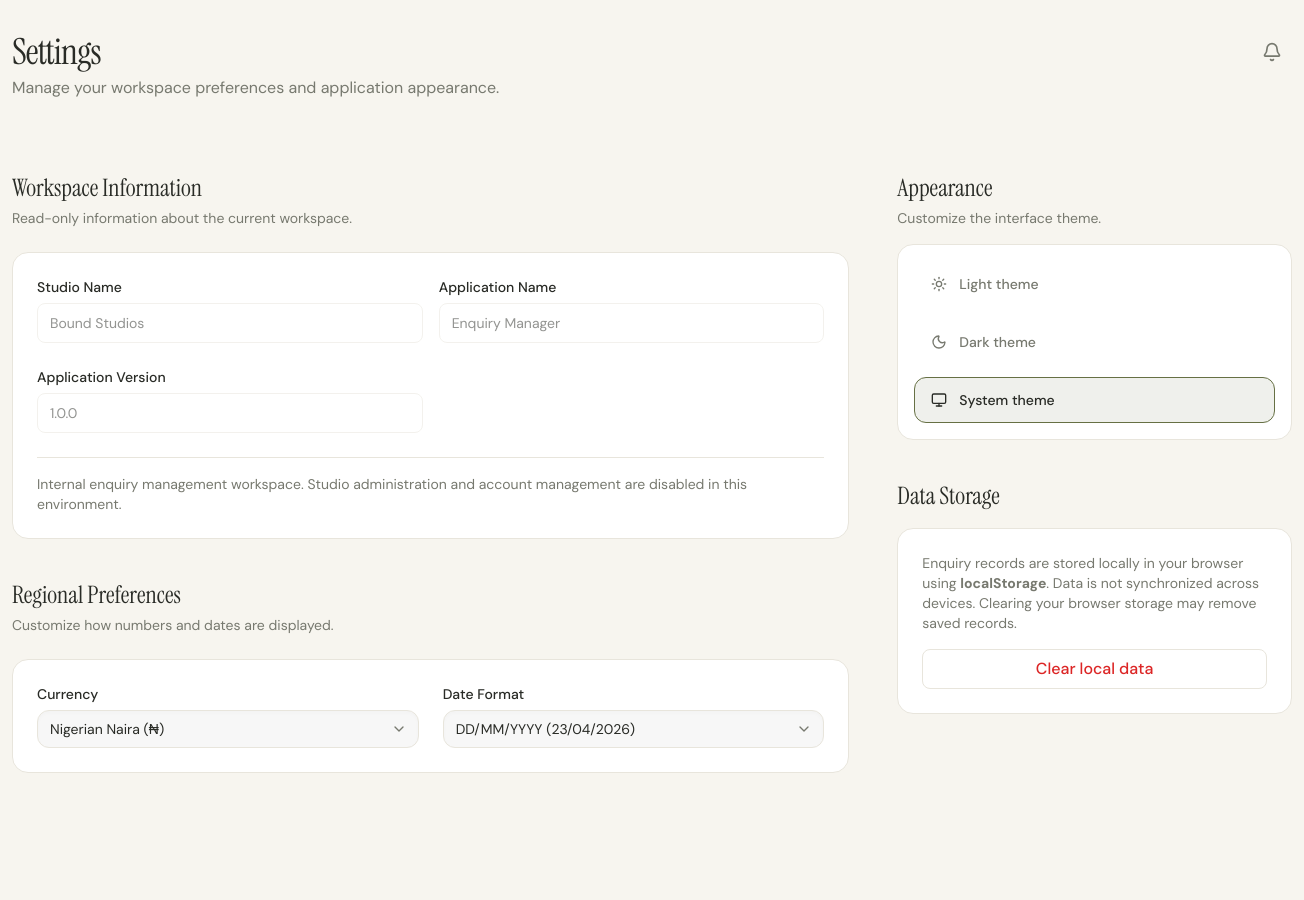
Scenario: Settings page › changes currency and saves the preference
Note: Simulate user interaction with the currency dropdown
Select "US Dollar ($)" in the dropdown below "Currency" at [228, 729], box [37,710,419,748]
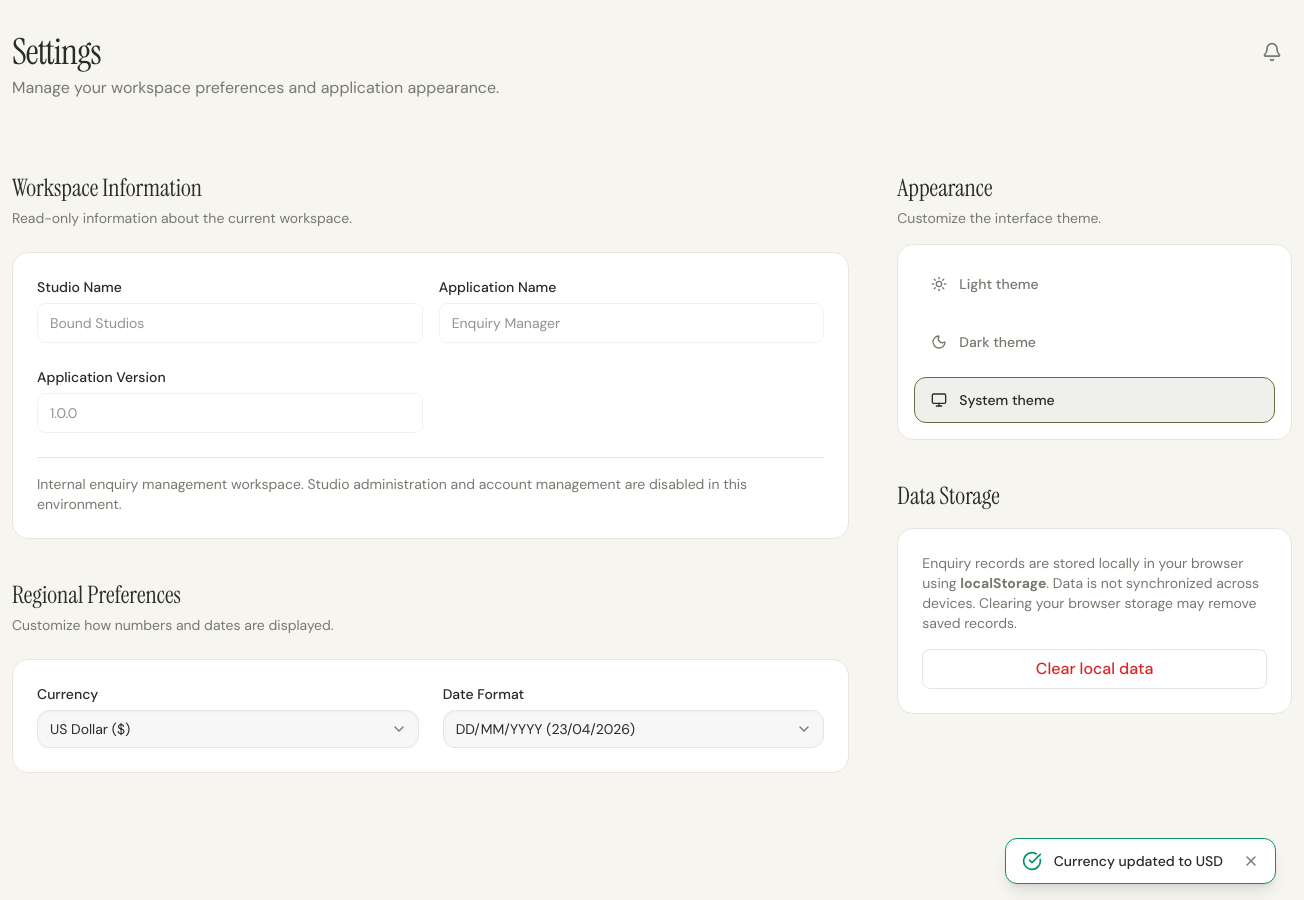
Expected: the text "Currency updated to USD" is shown, [1054,851,1223,871]
